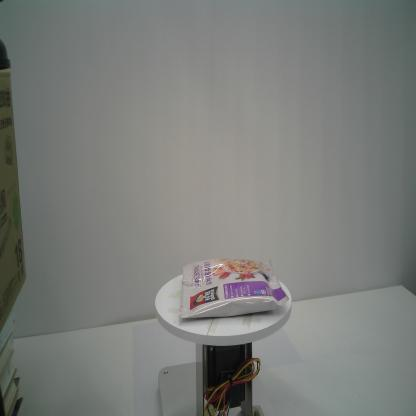Instant Drink: (180, 258, 290, 320)
